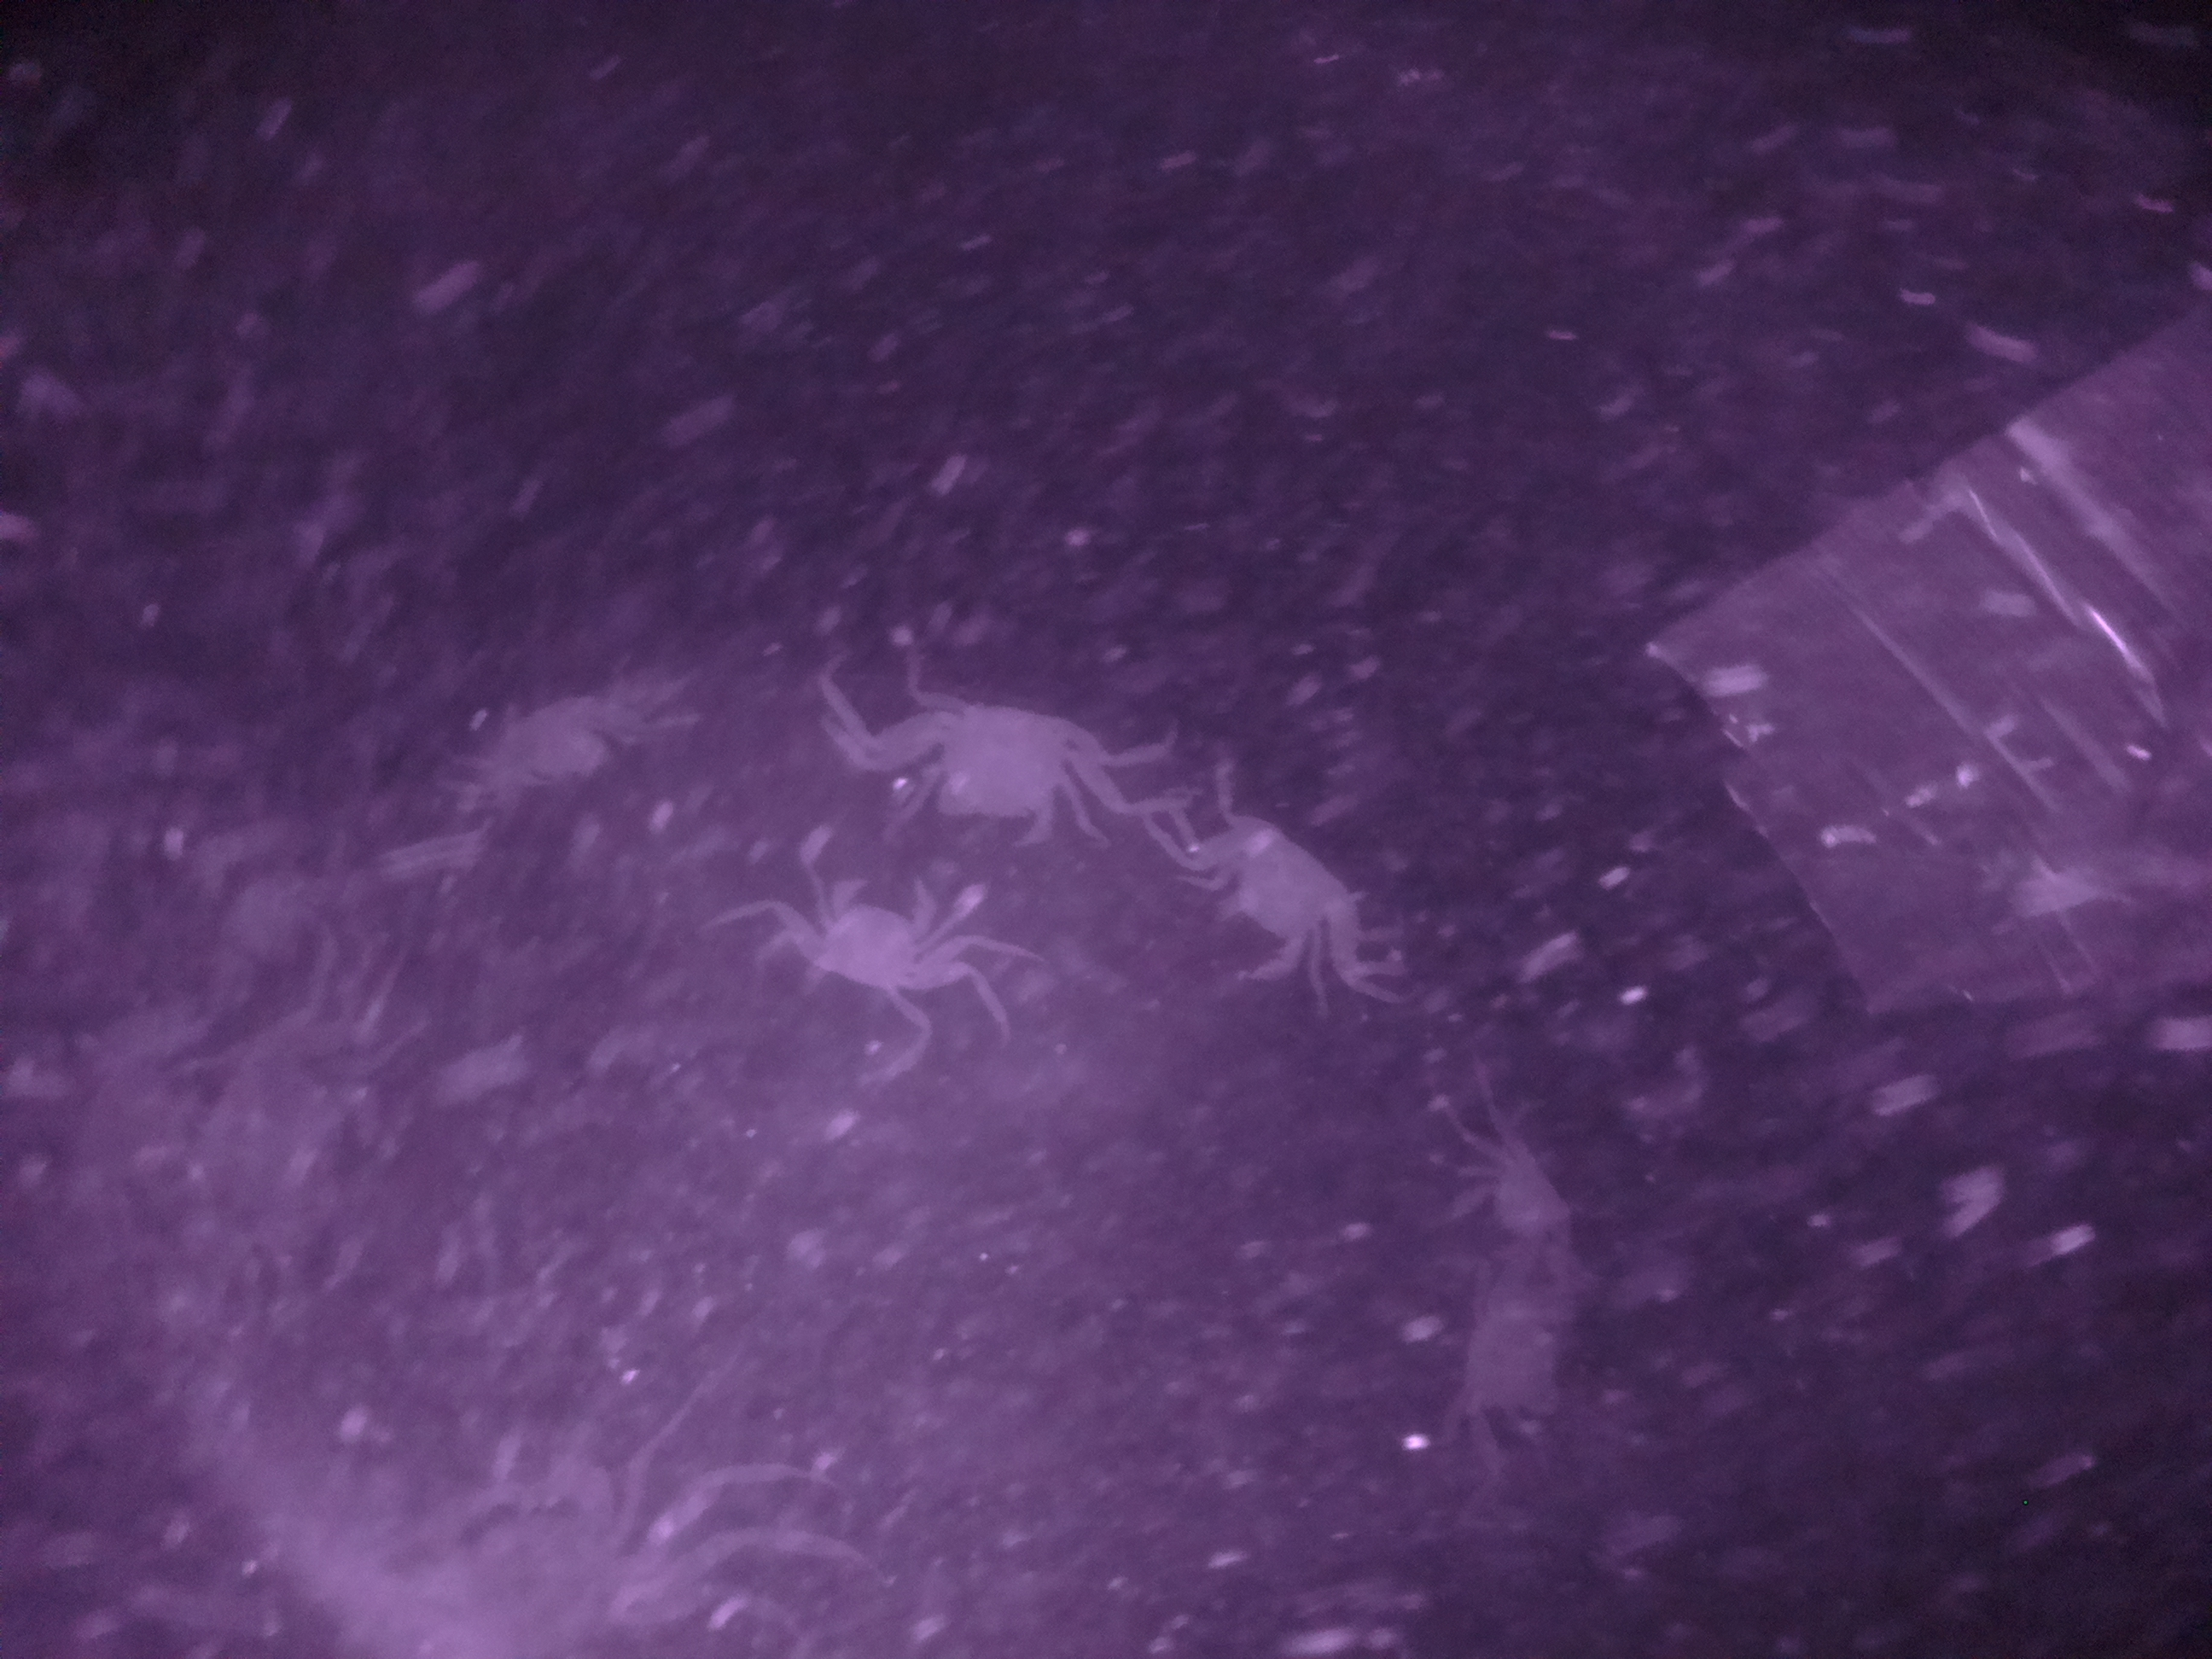Crab: (1191, 795, 1397, 1000), (897, 680, 1113, 840), (782, 863, 965, 1007)
